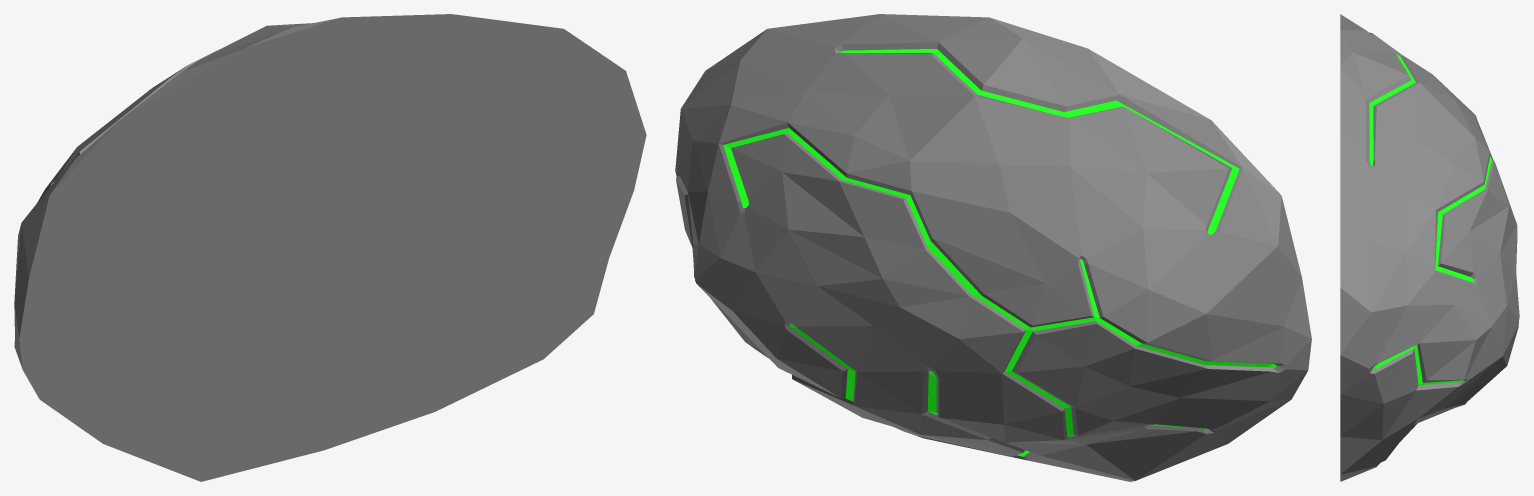
The model's file is OreVein_Medium.fbx.
The picture shows the model from 3 angles, left to right: view 1: azimuth 30°, elevation 25°; view 2: azimuth 150°, elevation 25°; view 3: azimuth 270°, elevation 25°; orthographic projection. The views are drawn at different scales.
Visible parts, largest first — view 1: OreVein_Medium; view 2: OreVein_Medium; view 3: OreVein_Medium.
Part boxes in pixels (x1,y1,x2,y2): OreVein_Medium: (14, 14, 646, 481); OreVein_Medium: (675, 14, 1311, 481); OreVein_Medium: (1340, 14, 1519, 481).
Bounding box in the file's own units: 329 × 216 × 95.8.
